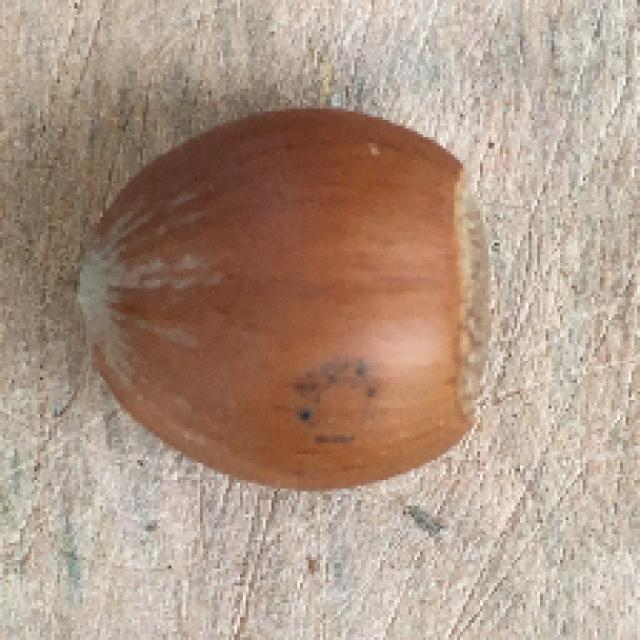damagedHazelnut: (77, 100, 505, 498)
